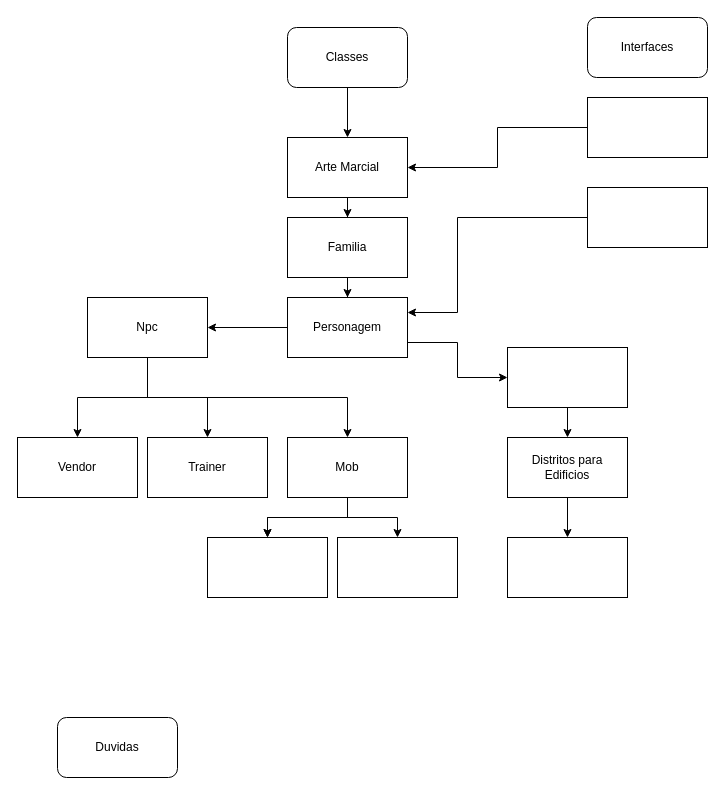
The diagram is 725 pixels wide and 795 high, and some of its shapes have lost their labels. Here are the shapes that lost their labels. From the top down, the centre of each, then its label:
the point at 647,127: Habilidades
the point at 647,217: Items
the point at 567,377: Comandante (player)
the point at 267,567: Normal
the point at 397,567: Boss
the point at 567,567: Edificios
